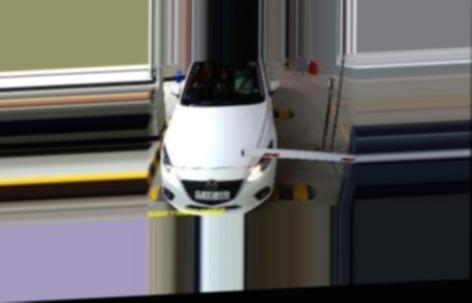License_Plate: (194, 189, 231, 201)
